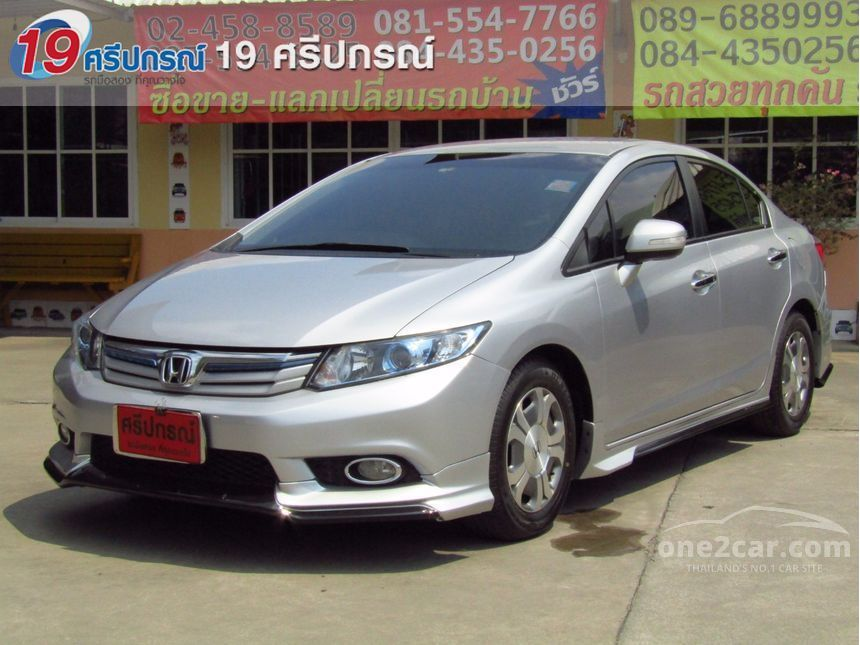sedan: (47, 132, 838, 536)
